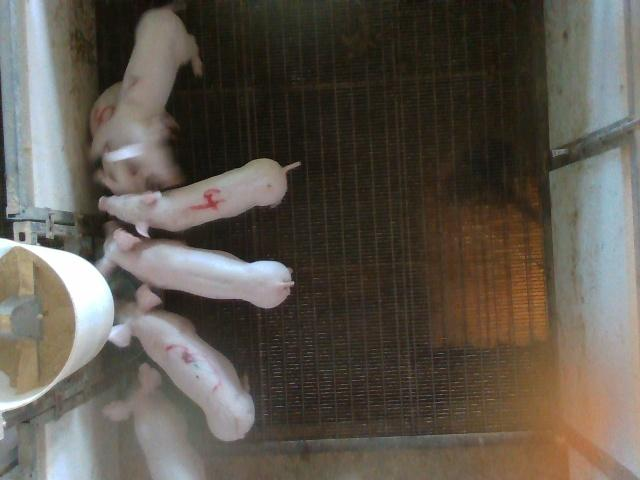pig-2: (91, 8, 201, 186)
pig-3: (109, 285, 255, 441)
pig-4: (100, 159, 300, 235)
